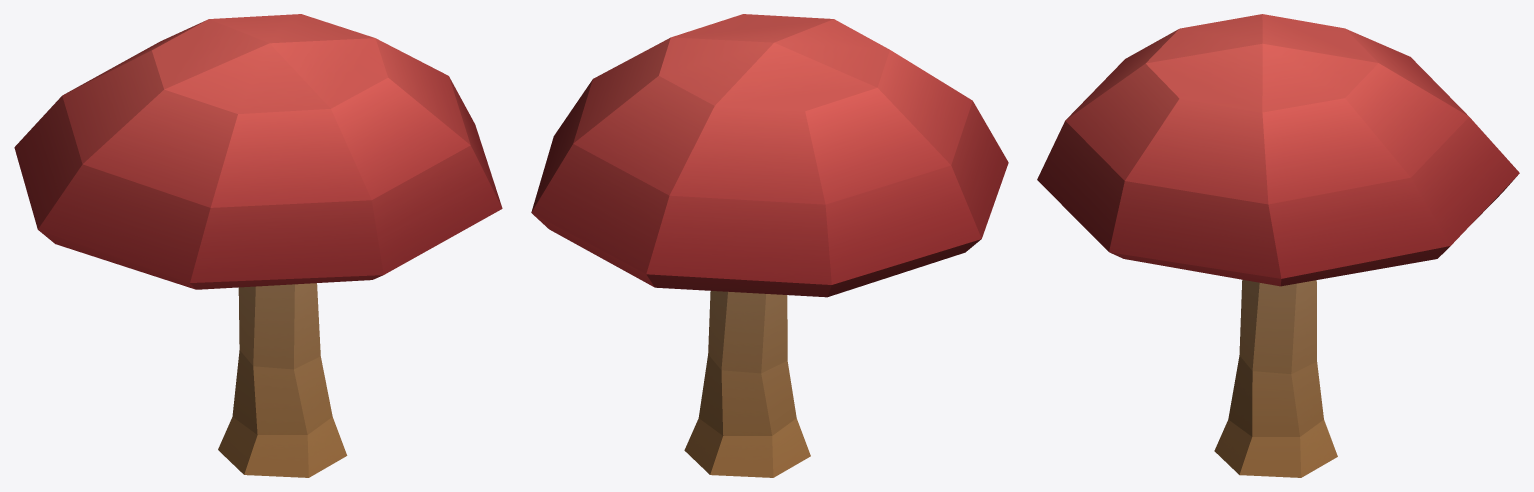
File: grzyb5.fbx
3 renders of one model, left to right at view 1: azimuth 30°, elevation 25°; view 2: azimuth 150°, elevation 25°; view 3: azimuth 270°, elevation 25°, orthographic. The views are drawn at different scales.
Visible parts, largest first — view 1: grzyb5, Circle.001; view 2: grzyb5, Circle.001; view 3: grzyb5, Circle.001.
Boxes of the visible parts, x1,y1,x2,y2 form: grzyb5: [14, 14, 502, 289]; Circle.001: [218, 283, 347, 477]; grzyb5: [531, 14, 1008, 297]; Circle.001: [684, 291, 810, 477]; grzyb5: [1037, 14, 1519, 286]; Circle.001: [1214, 279, 1337, 477].
Size of the model in its own units: 744 by 682 by 744.
